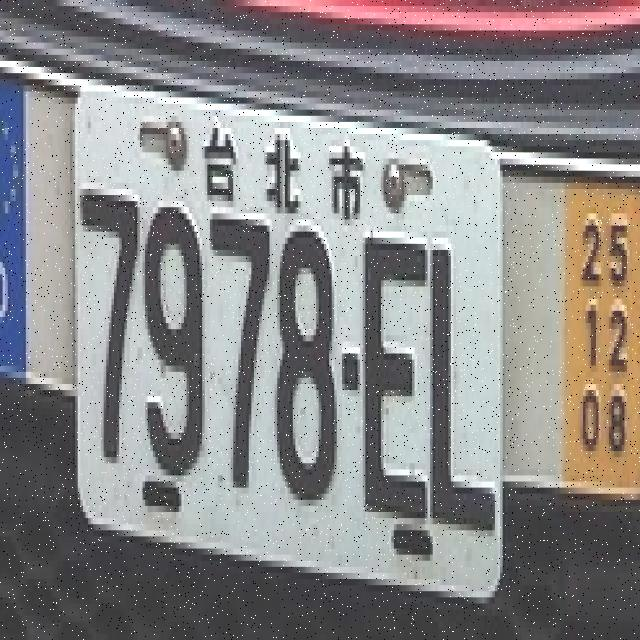licenseplate: (50, 62, 538, 619)
